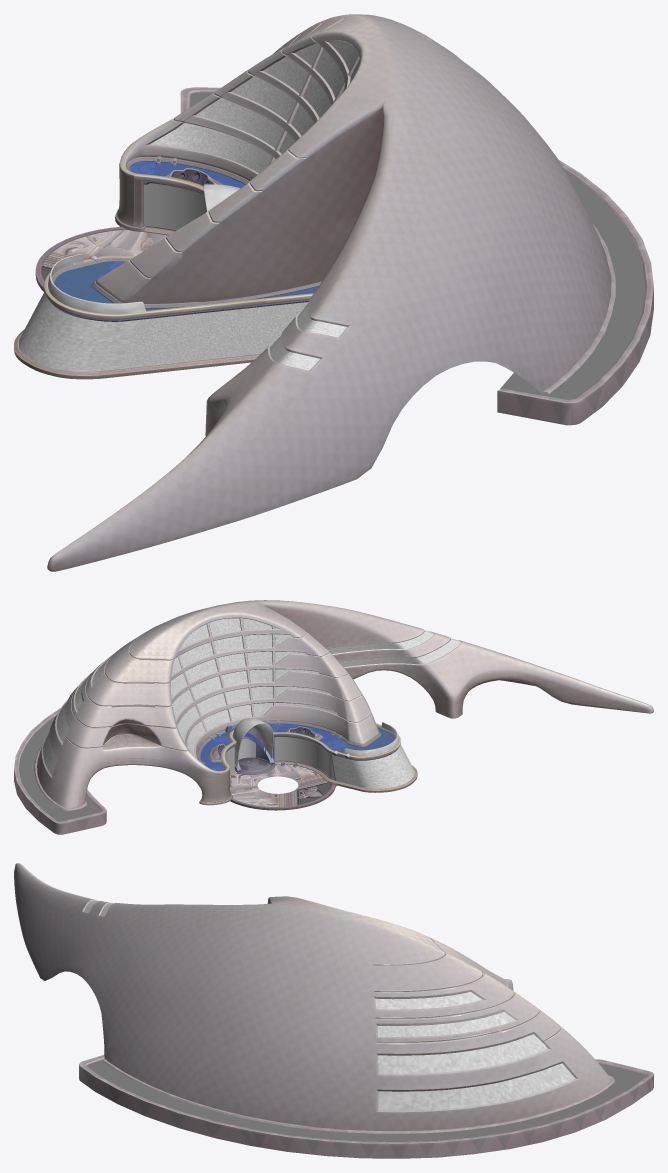
File: pref_sm_beach_WSJ_techborn01_lv3.fbx
3 views of the same model, one above another, from view 1: azimuth 30°, elevation 25°; view 2: azimuth 150°, elevation 25°; view 3: azimuth 270°, elevation 25° (orthographic). The views are drawn at different scales.
Visible parts, largest first — view 1: sm_beach_WSJ_techborn01a_lv3, sm_beach_WSJ_techborn02a_lv3, sm_beach_WSJ_techborn05a_lv3, sm_beach_WSJ_techborn06a_lv3, sm_beach_WSJ_techborn04a_lv3; view 2: sm_beach_WSJ_techborn01a_lv3, sm_beach_WSJ_techborn05a_lv3, sm_beach_WSJ_techborn02a_lv3, sm_beach_WSJ_techborn06a_lv3, sm_beach_WSJ_techborn04a_lv3; view 3: sm_beach_WSJ_techborn01a_lv3, sm_beach_WSJ_techborn05a_lv3, sm_beach_WSJ_techborn06a_lv3.
Boxes of the visible parts, left/top/right/bottom form: sm_beach_WSJ_techborn01a_lv3: left=14, top=14, right=653, bottom=571; sm_beach_WSJ_techborn02a_lv3: left=19, top=184, right=308, bottom=371; sm_beach_WSJ_techborn05a_lv3: left=150, top=41, right=359, bottom=370; sm_beach_WSJ_techborn06a_lv3: left=190, top=92, right=645, bottom=399; sm_beach_WSJ_techborn04a_lv3: left=143, top=183, right=206, bottom=229; sm_beach_WSJ_techborn01a_lv3: left=14, top=600, right=653, bottom=834; sm_beach_WSJ_techborn05a_lv3: left=43, top=618, right=461, bottom=775; sm_beach_WSJ_techborn02a_lv3: left=233, top=718, right=414, bottom=788; sm_beach_WSJ_techborn06a_lv3: left=18, top=716, right=101, bottom=821; sm_beach_WSJ_techborn04a_lv3: left=224, top=737, right=334, bottom=778; sm_beach_WSJ_techborn01a_lv3: left=14, top=863, right=653, bottom=1158; sm_beach_WSJ_techborn05a_lv3: left=84, top=900, right=575, bottom=1110; sm_beach_WSJ_techborn06a_lv3: left=87, top=1059, right=647, bottom=1141.
Bounding box in the file's own units: 56.29 × 15.85 × 56.14.
